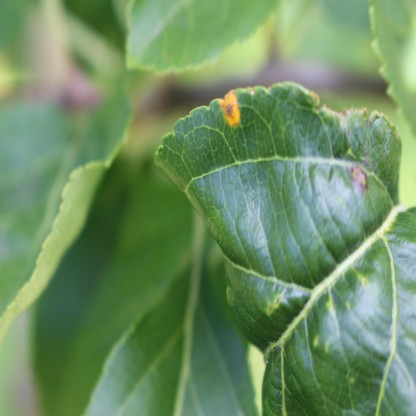rust: (217, 92, 240, 126), (352, 167, 369, 190)
